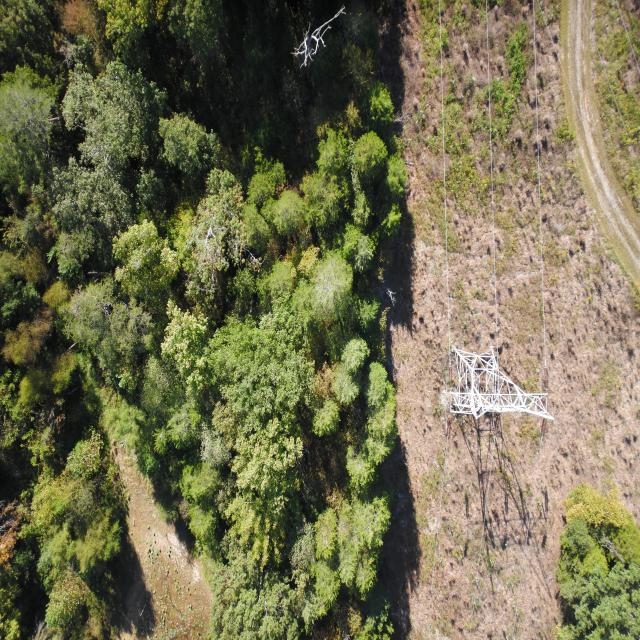Area of Interest: (3, 9, 388, 640), (558, 512, 638, 636)
